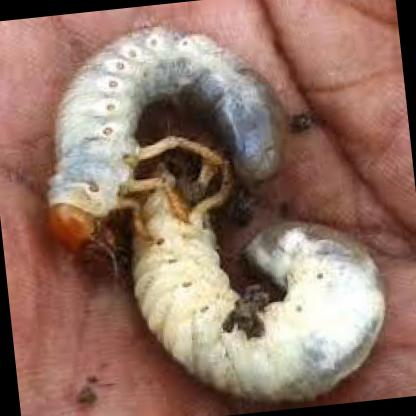root grubs: (132, 174, 392, 402), (44, 29, 279, 261)
